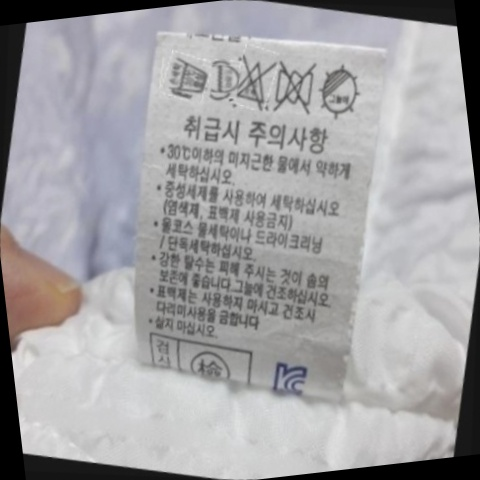DN_wring: (269, 55, 326, 117)
dry_clean: (203, 57, 243, 99)
hand_wash: (160, 47, 216, 102)
non_chlorine_bleach: (230, 50, 279, 110)
shade_dry: (311, 58, 371, 127)
